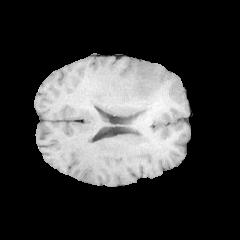glioma: (72, 62, 177, 142)
